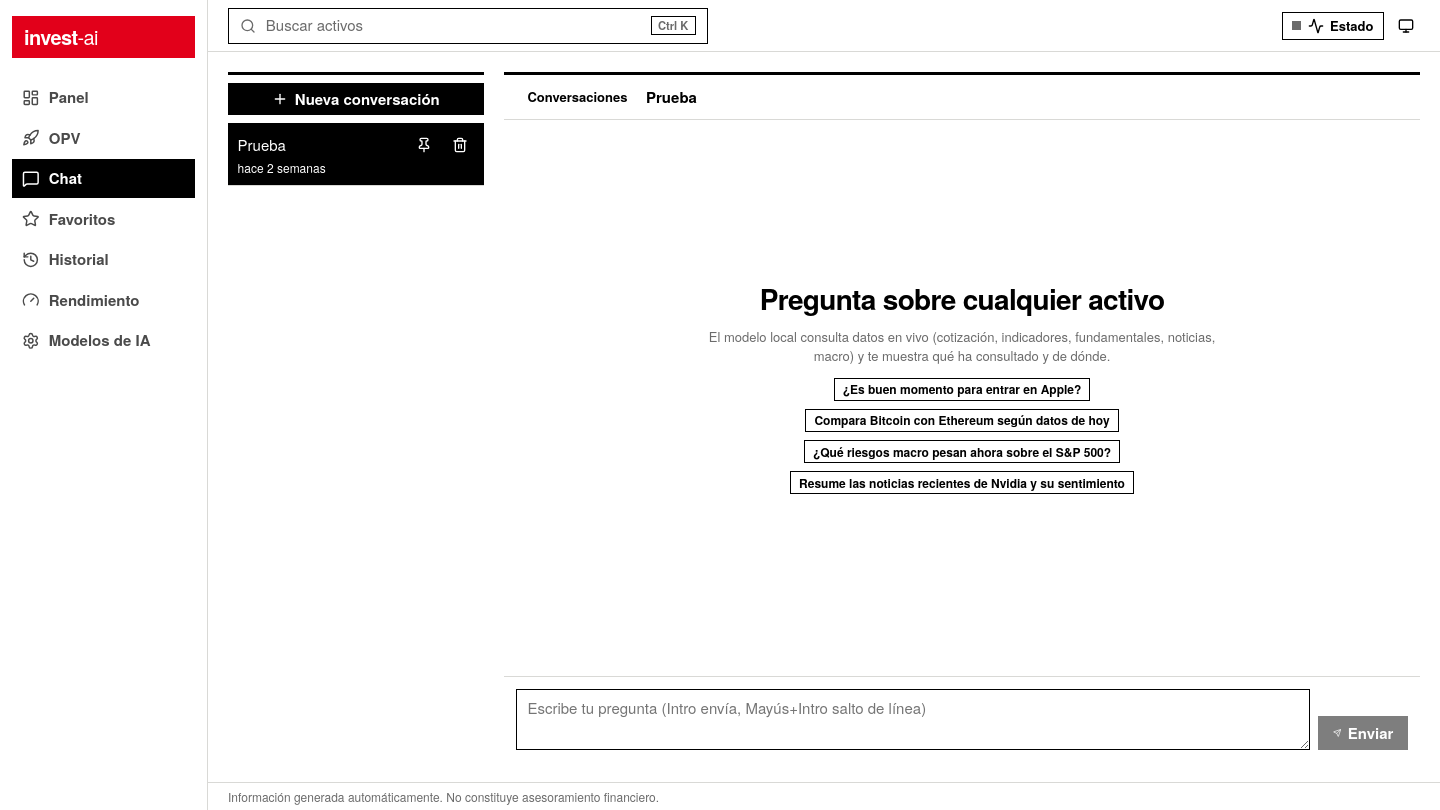
Test: ChatPage: una respuesta no se pinta dos veces › una respuesta completa queda una sola vez cuando el hilo guardado ya la trae
Type "hola" into the text box named "Mensaje". click: (913, 719)
box: [516,689,1310,750]
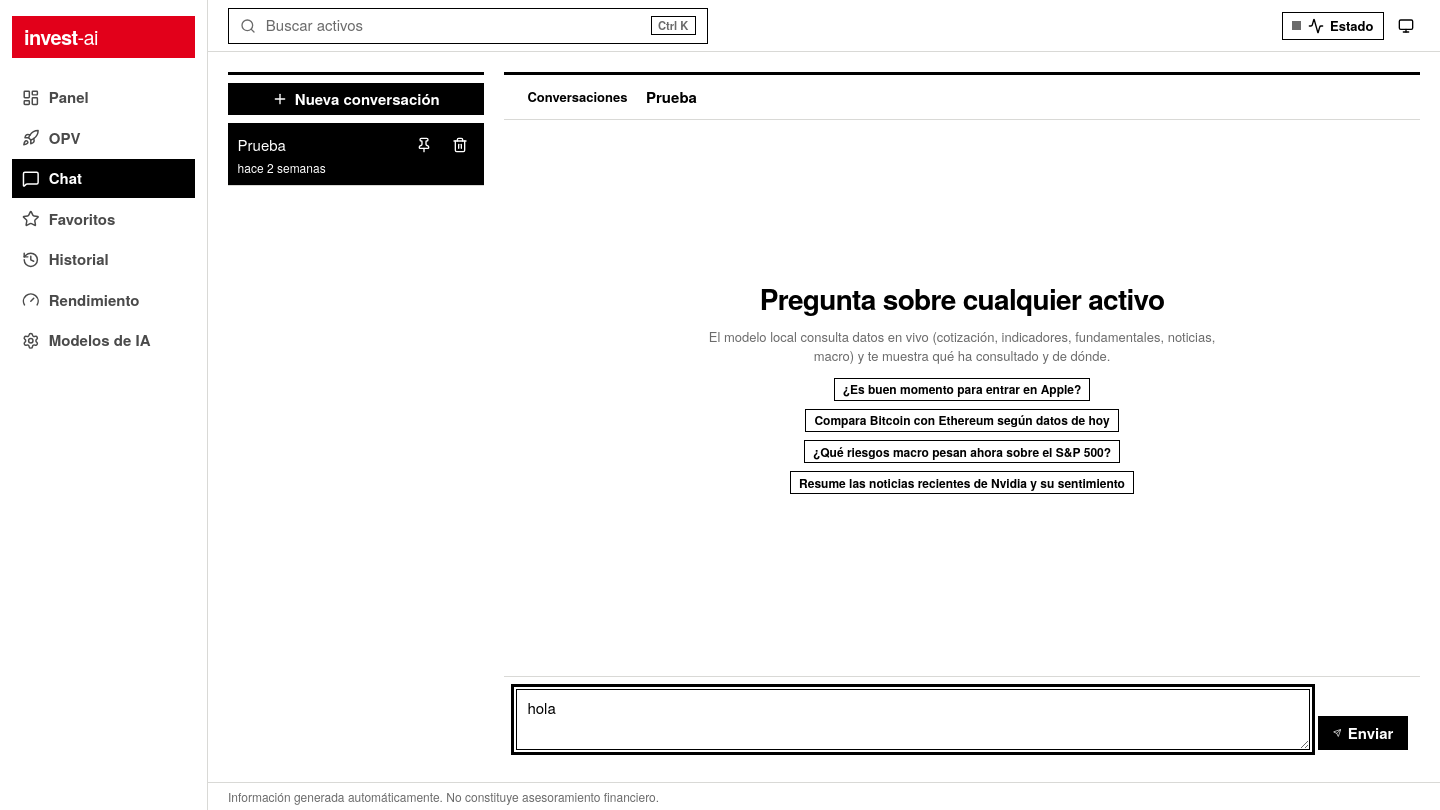
Click the button "Enviar". click: (1363, 733)
box: [1318,716,1408,750]
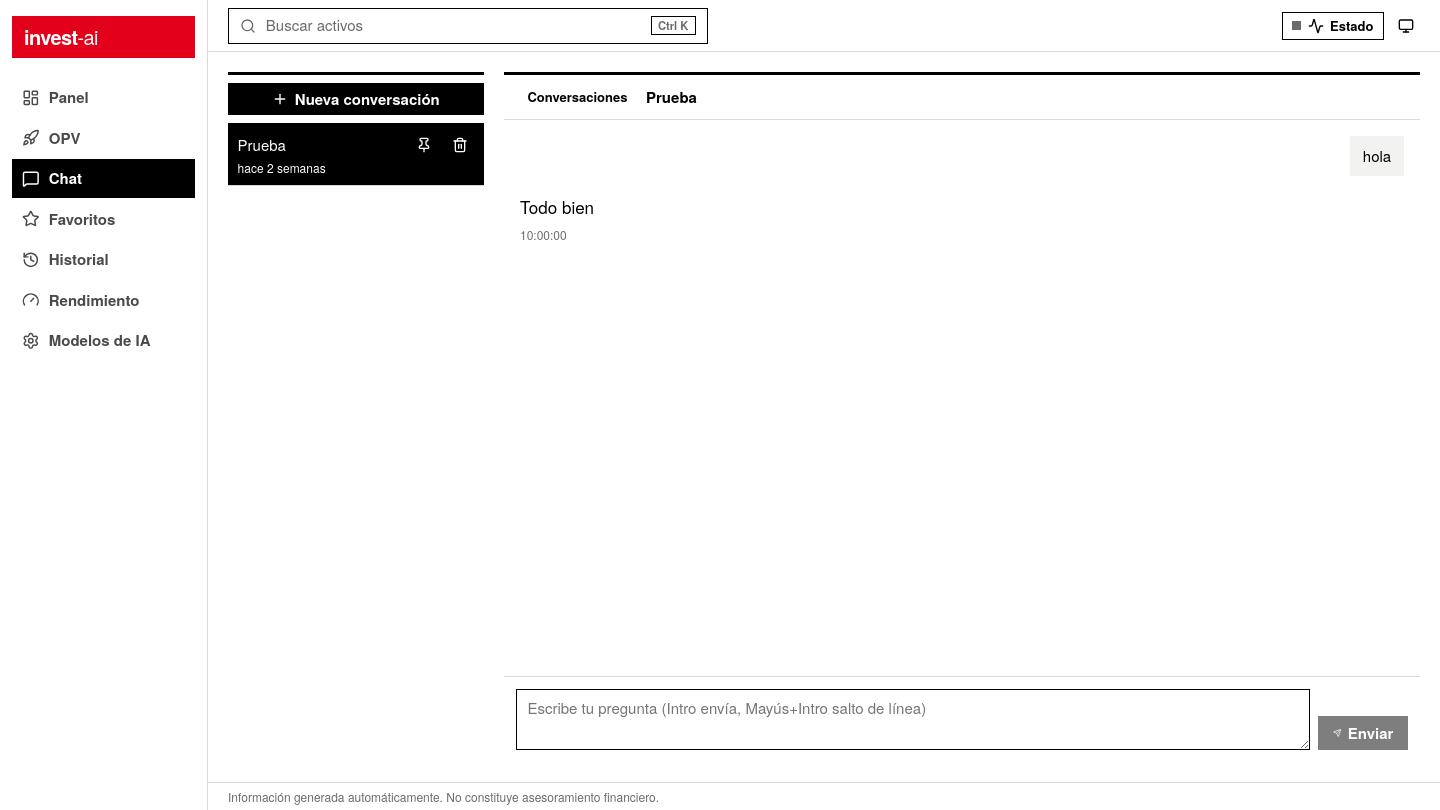
Check: the text "Todo bien" is shown once, box [520,194,594,219]
Check: the text "hola" is shown once, box [1363,145,1391,167]
